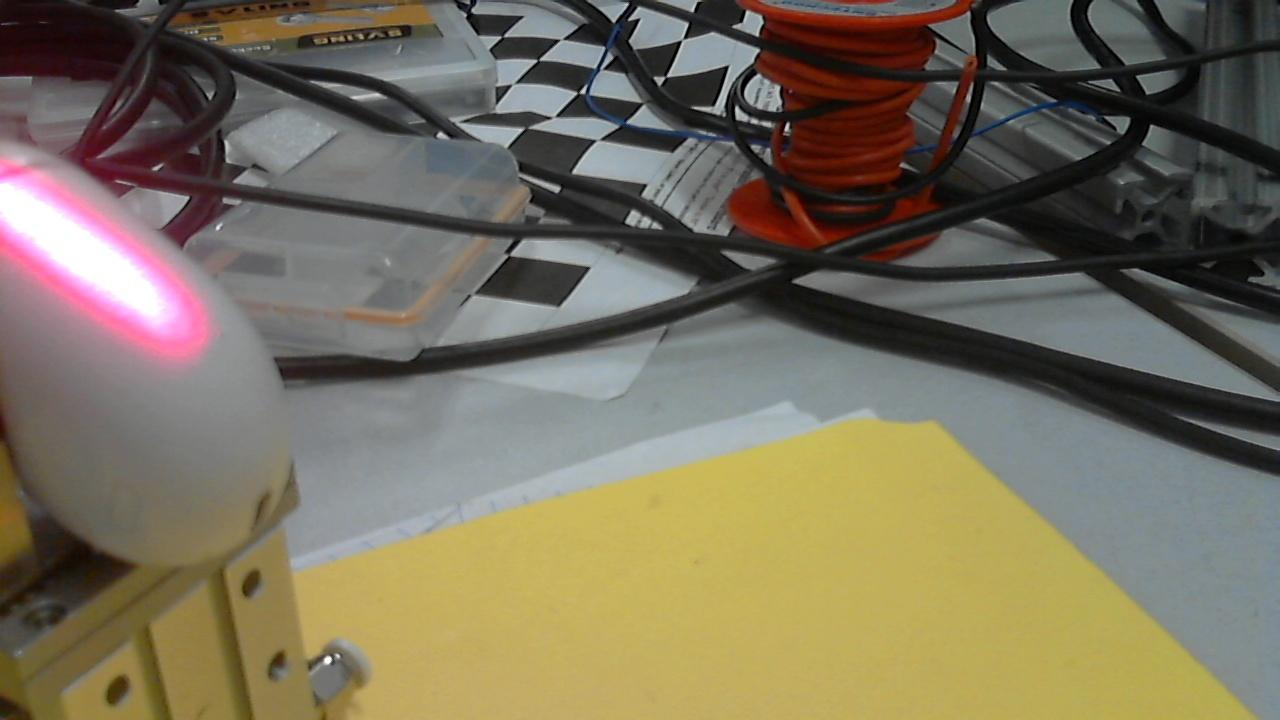Object wireless earbud charging case - Material plastic - Pdfname qzJIPQkli2jB: (0, 151, 225, 363)
